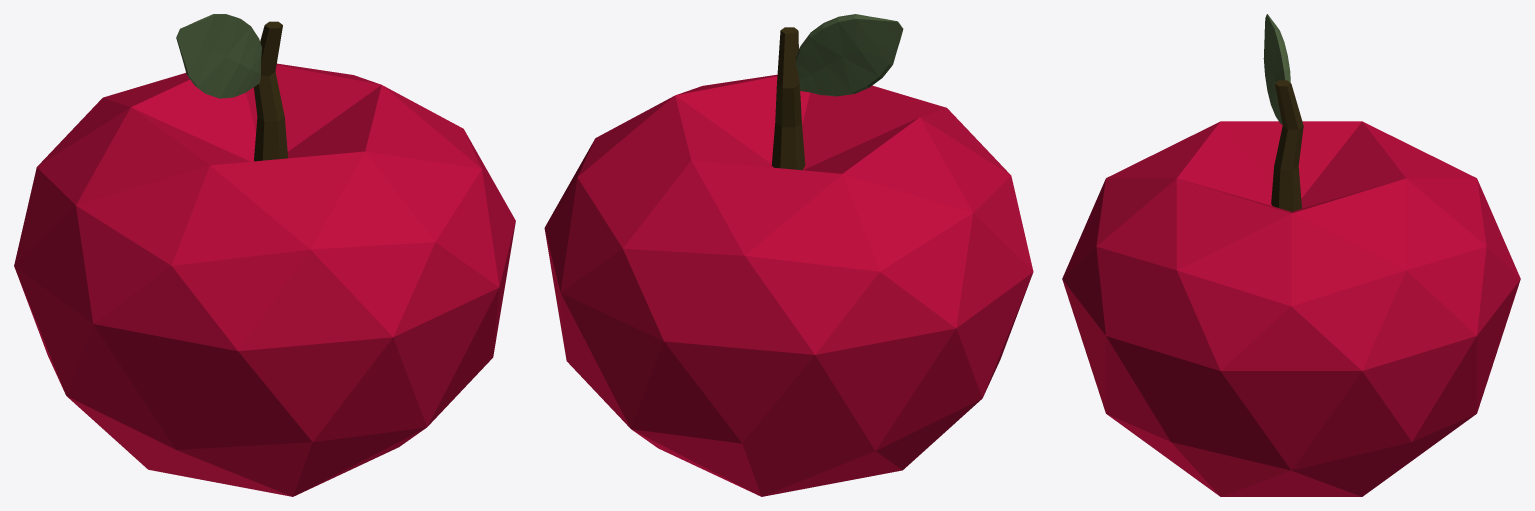
File: apple.dae
3 renders of one model, left to right at view 1: azimuth 30°, elevation 25°; view 2: azimuth 150°, elevation 25°; view 3: azimuth 270°, elevation 25°, orthographic. The views are drawn at different scales.
Visible parts, largest first — view 1: apple; view 2: apple; view 3: apple.
Part boxes in pixels (x1=…): apple: x1=14, y1=14, x2=515, y2=496; apple: x1=544, y1=14, x2=1033, y2=496; apple: x1=1062, y1=14, x2=1520, y2=496.
Bounding box in the file's own units: 1.52 × 1.54 × 1.6.
